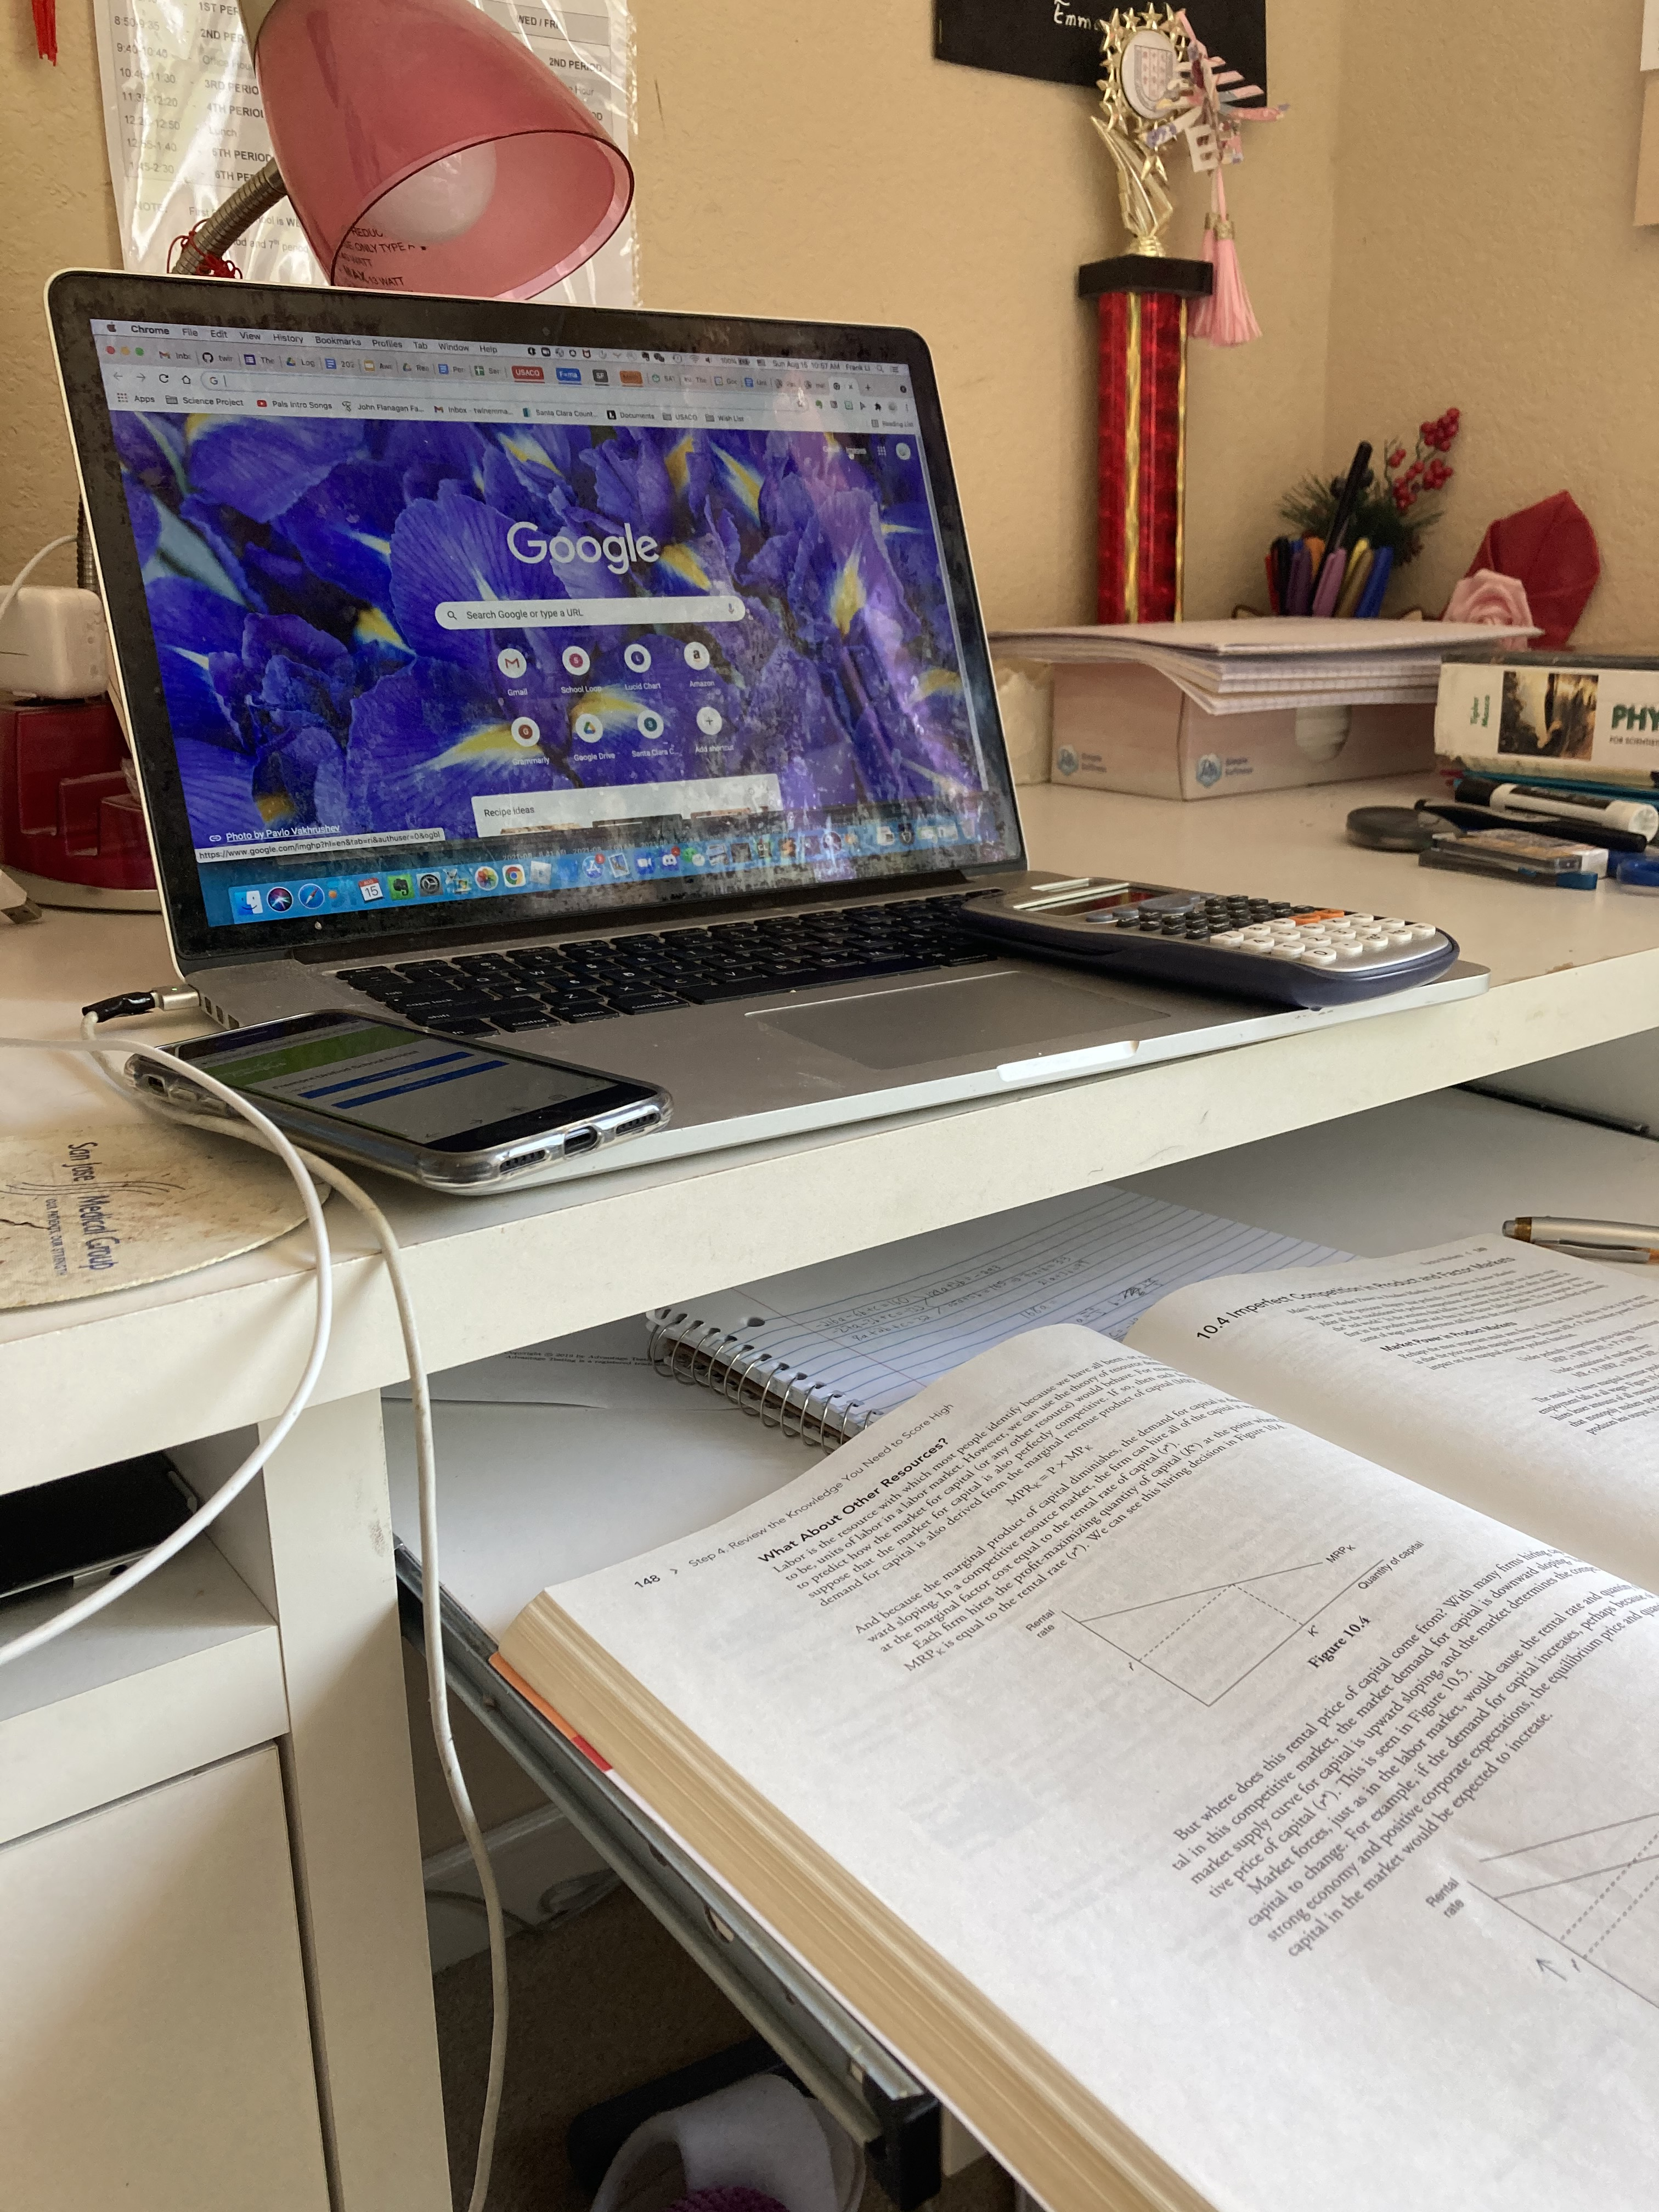Calculator: (964, 869, 1462, 1005)
Cell Phone: (138, 1017, 666, 1167)
Open Book: (471, 1230, 1659, 2212)
